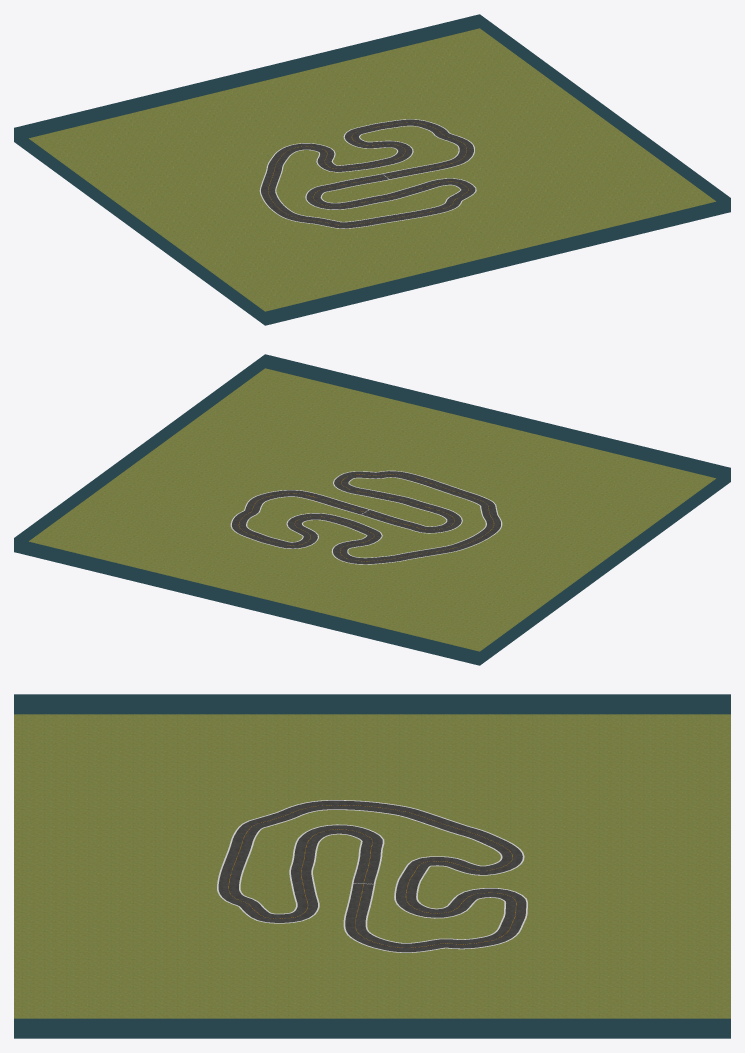
The model's file is 2022_march_pro.dae.
3 views of the same model, one above another, from view 1: azimuth 30°, elevation 25°; view 2: azimuth 150°, elevation 25°; view 3: azimuth 270°, elevation 25° (orthographic). The views are drawn at different scales.
Parts seen in each view (by area): view 1: field, wall, road, ol, il; view 2: field, wall, road, ol, il; view 3: field, wall, road, ol, il, cl.
Part boxes in pixels (x1,y1,x2,y2): field: [29, 28, 715, 311]; wall: [14, 14, 730, 325]; road: [261, 119, 475, 228]; ol: [259, 119, 476, 228]; il: [275, 125, 461, 222]; field: [29, 368, 715, 651]; wall: [14, 354, 730, 665]; road: [232, 471, 500, 564]; ol: [230, 470, 502, 564]; il: [246, 477, 486, 558]; field: [14, 714, 730, 1018]; wall: [14, 694, 730, 1038]; road: [218, 800, 526, 952]; ol: [217, 800, 527, 952]; il: [239, 809, 505, 943]; cl: [228, 805, 516, 947].
Size of the model in its own units: 34.59 by 32.31 by 1.
7 materials, 7 textured.
